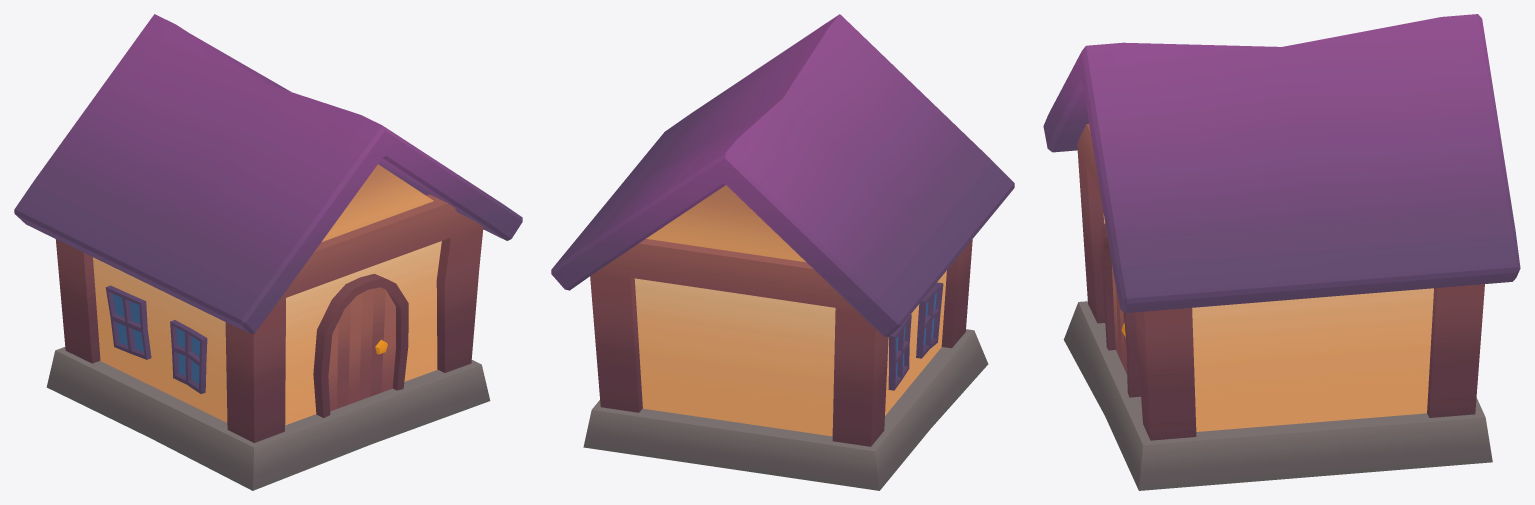
File: village_town_house.glb
3 renders of one model, left to right at view 1: azimuth 30°, elevation 25°; view 2: azimuth 150°, elevation 25°; view 3: azimuth 270°, elevation 25°, orthographic. The views are drawn at different scales.
Parts seen in each view (by area): view 1: House.003_Material.005_0; view 2: House.003_Material.005_0; view 3: House.003_Material.005_0.
Part boxes in pixels (x1,y1,x2,y2): House.003_Material.005_0: [14, 14, 522, 490]; House.003_Material.005_0: [551, 14, 1014, 490]; House.003_Material.005_0: [1043, 14, 1520, 490].
Size of the model in its own units: 4.58 by 3.81 by 4.42.
Materials: 1 (1 with a texture image).
